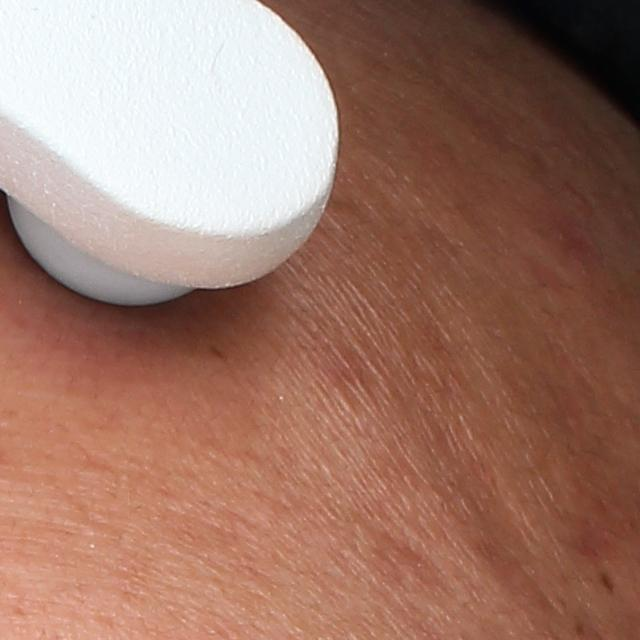nevus: (599, 571, 620, 597)
